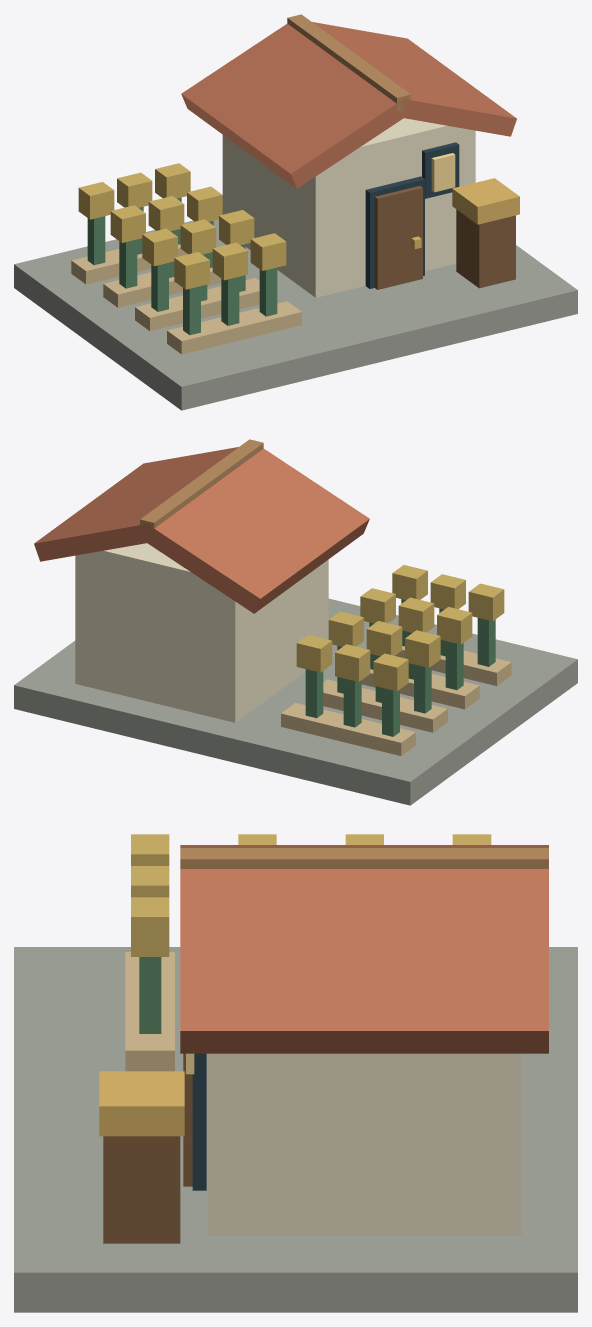
File: farm_yard.glb
The picture shows the model from 3 angles, top to bottom: view 1: azimuth 30°, elevation 25°; view 2: azimuth 150°, elevation 25°; view 3: azimuth 270°, elevation 25°; orthographic projection. The views are drawn at different scales.
Size of the model in its own units: 2.8 by 1.43 by 2.05.
